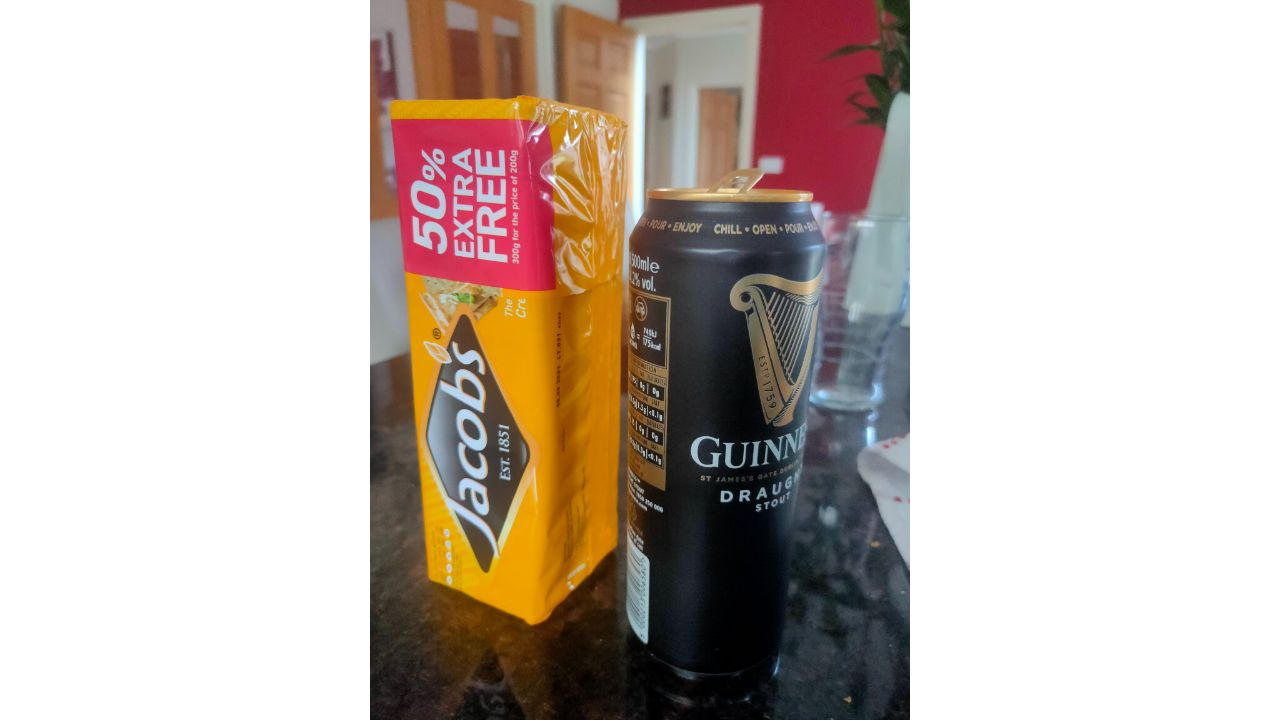Can: (622, 169, 828, 684)
